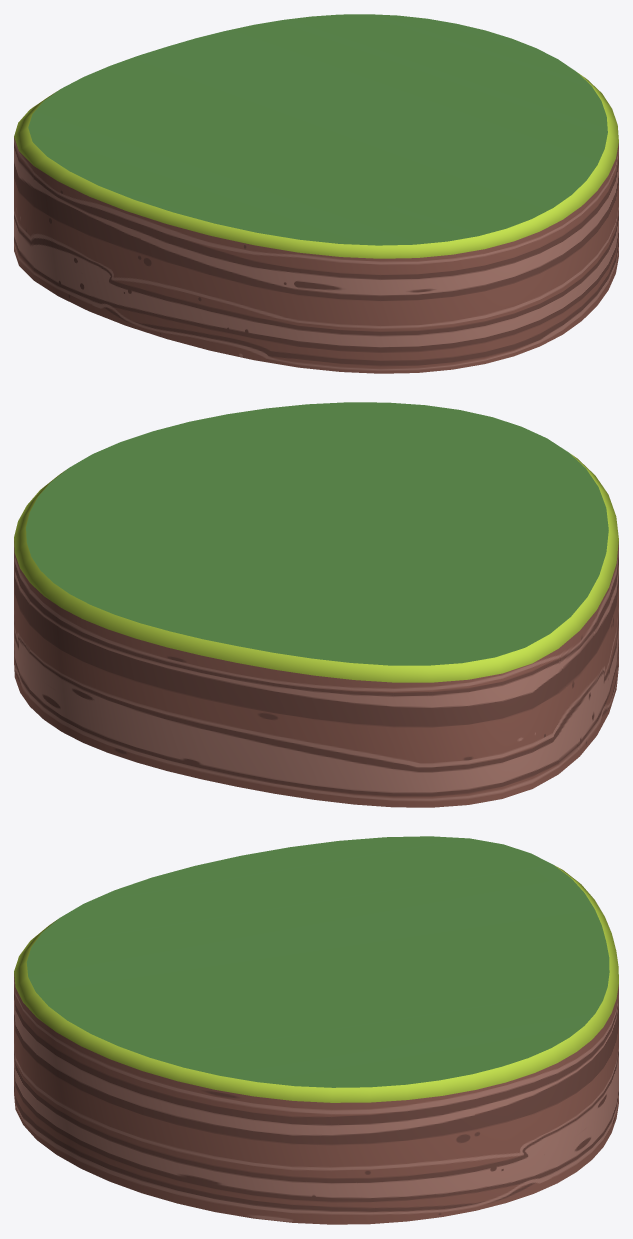
The model's file is grasschunk1.glb.
3 renders of one model, top to bottom at view 1: azimuth 30°, elevation 25°; view 2: azimuth 150°, elevation 25°; view 3: azimuth 270°, elevation 25°, orthographic. The views are drawn at different scales.
Parts seen in each view (by area): view 1: Plate_Curved_Var16_11_Forest_mat_01_0; view 2: Plate_Curved_Var16_11_Forest_mat_01_0; view 3: Plate_Curved_Var16_11_Forest_mat_01_0.
Part boxes in pixels (<box>): Plate_Curved_Var16_11_Forest_mat_01_0: <box>14,14,618,373</box>; Plate_Curved_Var16_11_Forest_mat_01_0: <box>14,402,618,807</box>; Plate_Curved_Var16_11_Forest_mat_01_0: <box>14,836,618,1224</box>.
Size of the model in its own units: 0.1122 by 0.0263 by 0.1094.
1 material, 1 textured.
